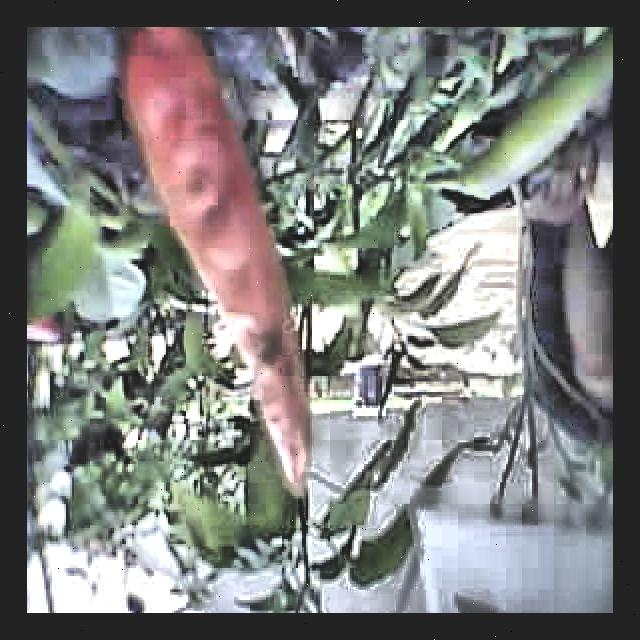Cabai: (127, 27, 354, 511)
